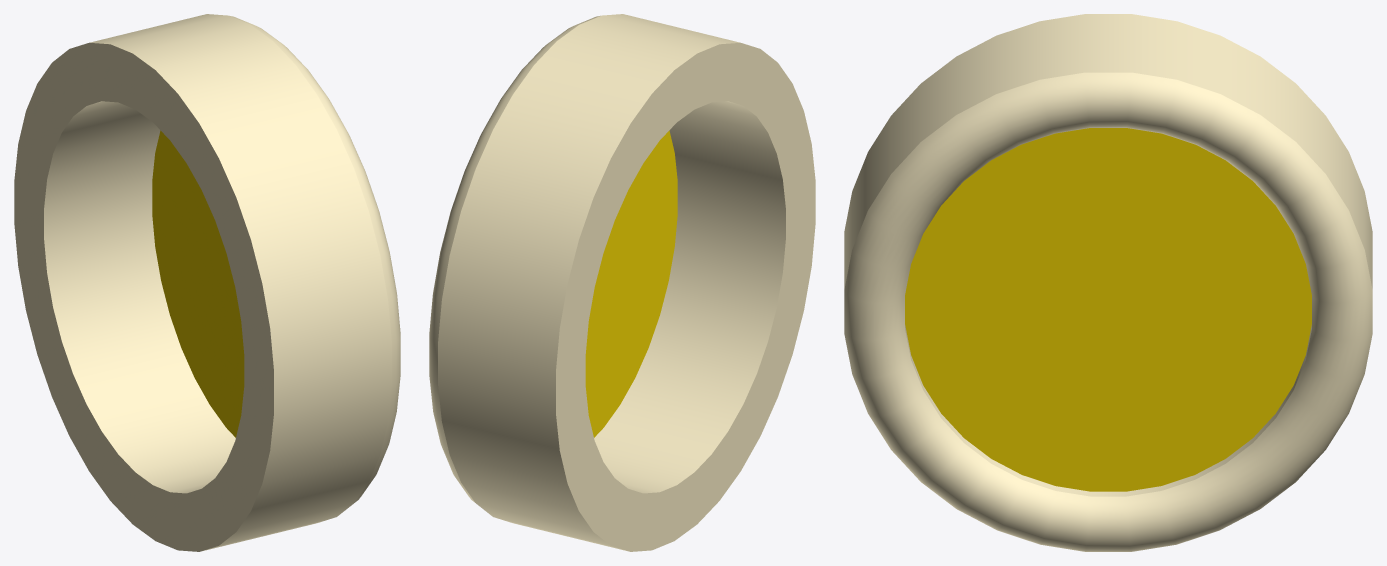
File: SliderTimeOfDayFix.fbx
3 views of the same model, side by side, from view 1: azimuth 30°, elevation 25°; view 2: azimuth 150°, elevation 25°; view 3: azimuth 270°, elevation 25° (orthographic).
Visible parts, largest first — view 1: Group1; view 2: Group1; view 3: Group1.
Part boxes in pixels (x1,y1,x2,y2): Group1: (14, 14, 400, 551); Group1: (429, 14, 815, 551); Group1: (844, 14, 1372, 551).
Size of the model in its own units: 14 by 45.82 by 45.82.
